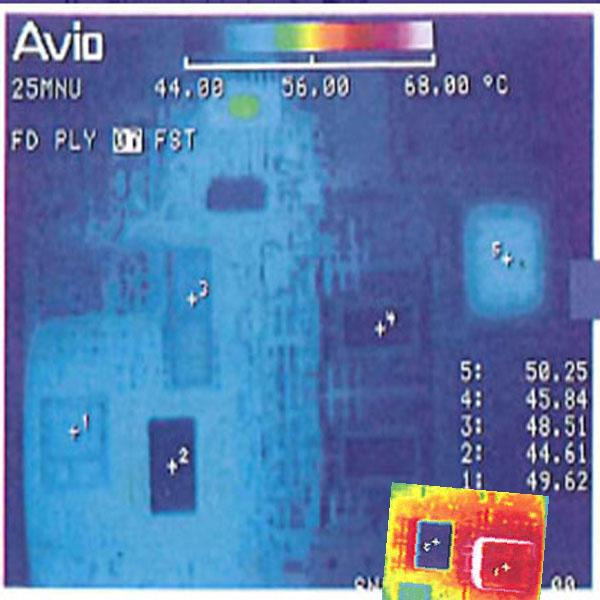componente_T: (374, 480, 556, 600), (288, 23, 350, 53)
